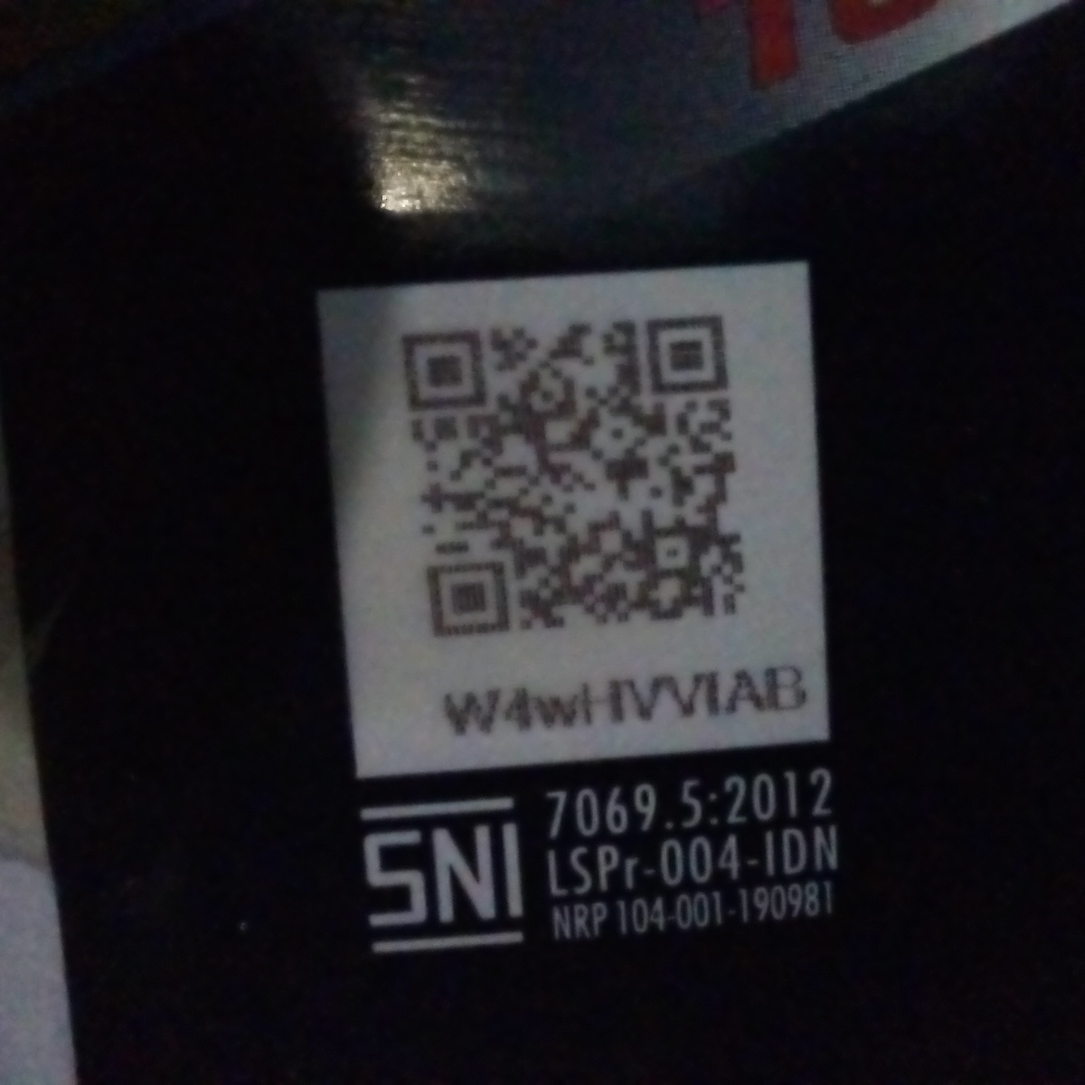QR-CODE: (383, 310, 776, 646)
